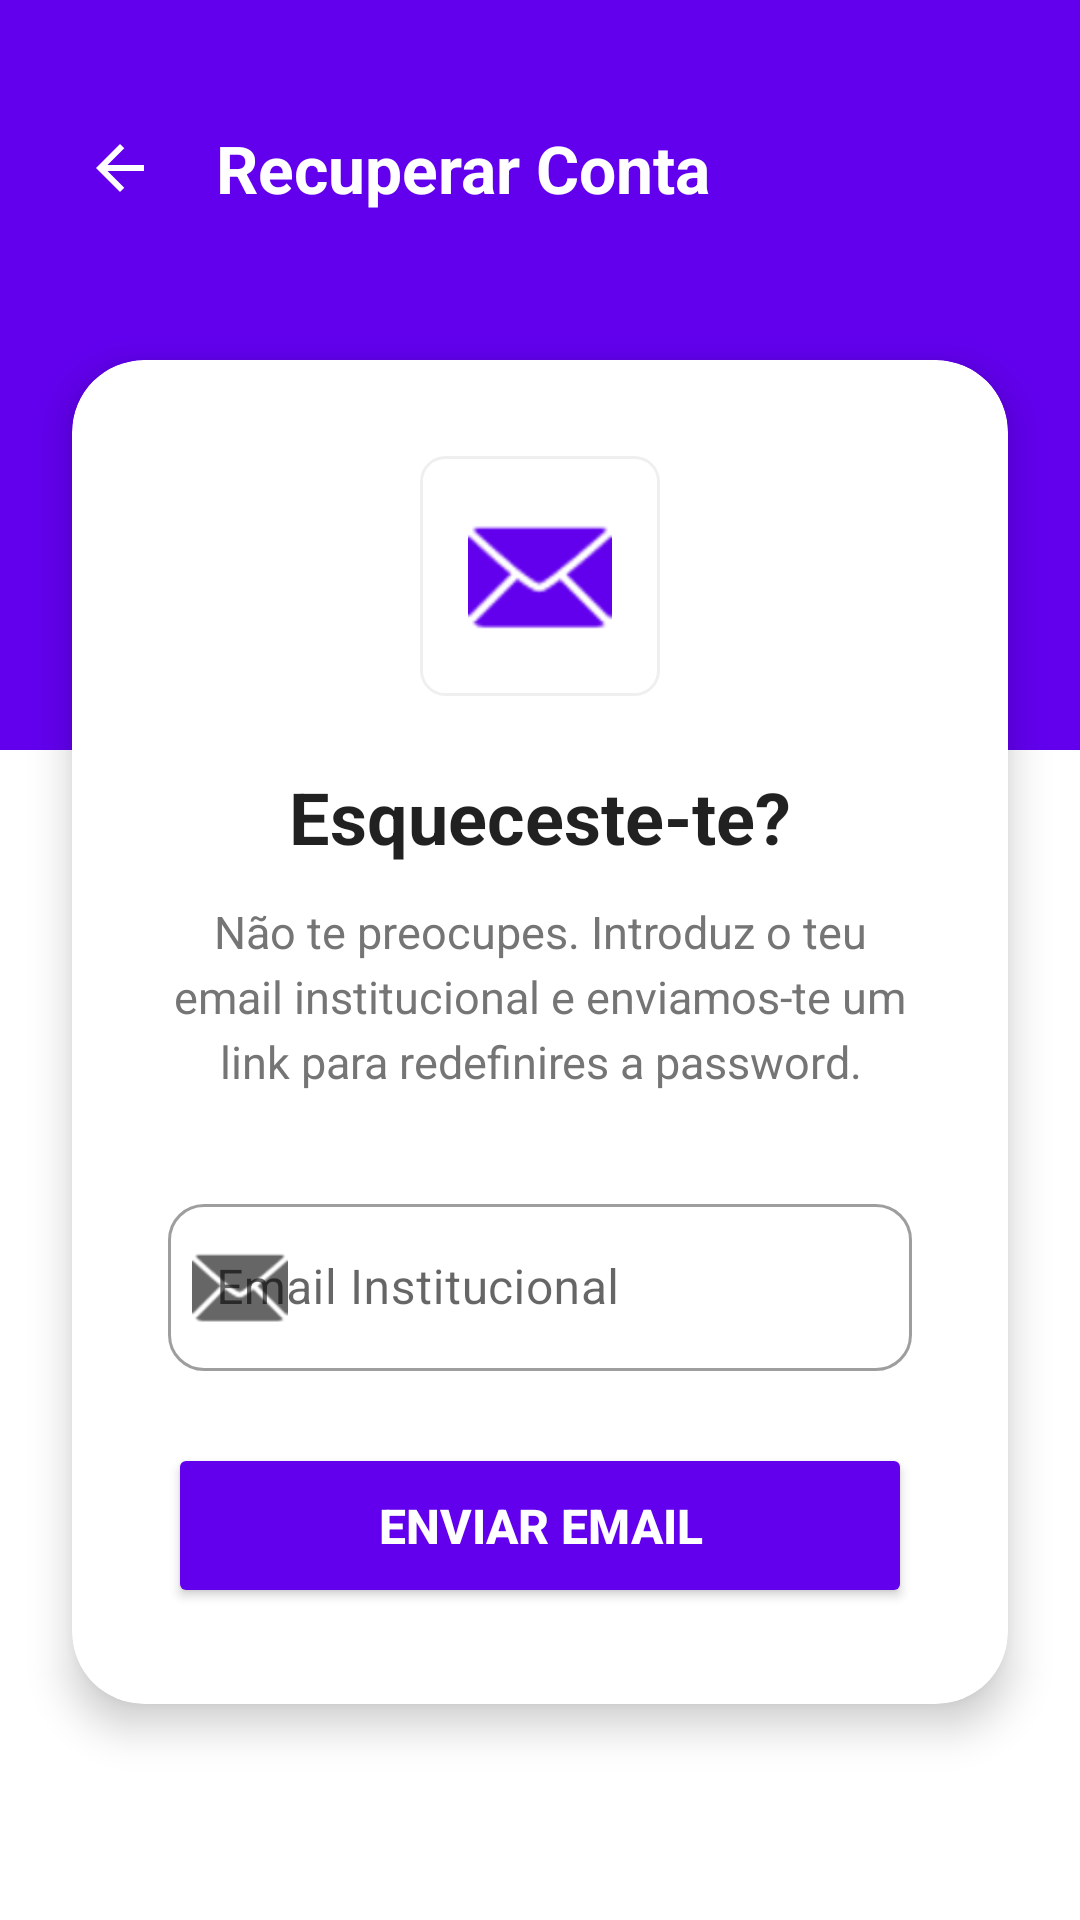

Named icons in this screenshot (1080x1920) and their centers, (x,y):
email: (540,577)
Voltar: (120,168)
